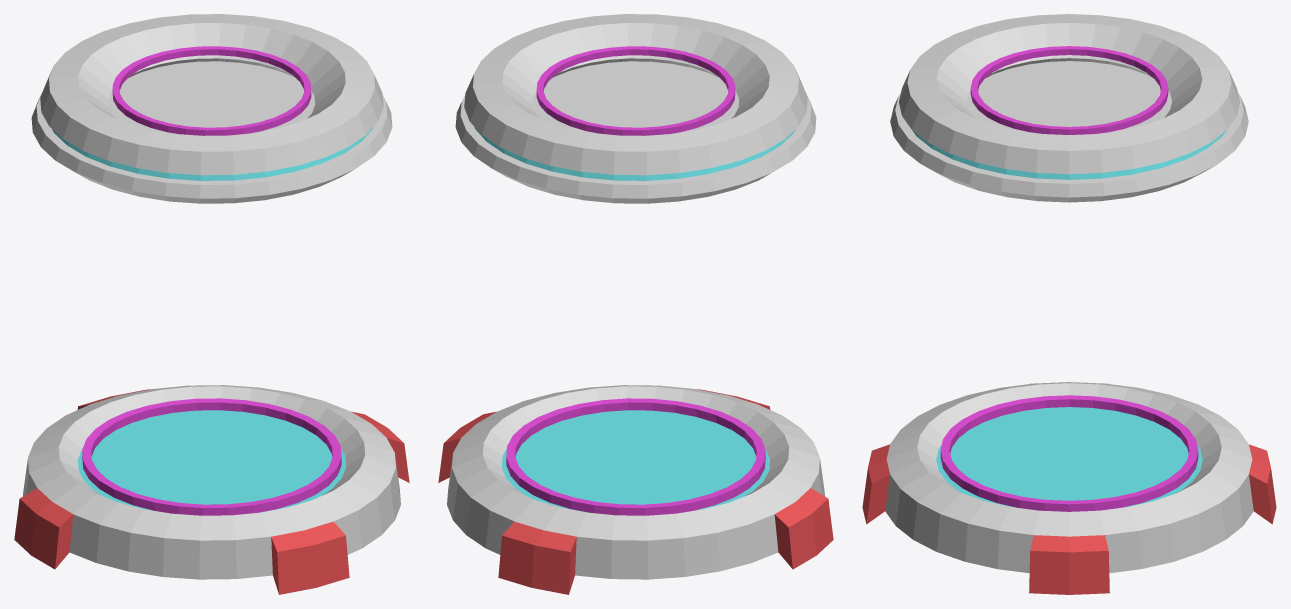
The model's file is Section_AS.fbx.
3 renders of one model, left to right at view 1: azimuth 30°, elevation 25°; view 2: azimuth 150°, elevation 25°; view 3: azimuth 270°, elevation 25°, orthographic.
Visible parts, largest first — view 1: Cylinder.001, Cylinder, Cylinder.004, Cylinder.003; view 2: Cylinder.001, Cylinder, Cylinder.004, Cylinder.003; view 3: Cylinder.001, Cylinder, Cylinder.004, Cylinder.003.
Part boxes in pixels (x1=…): Cylinder.001: x1=14, y1=385, x2=409, y2=594; Cylinder: x1=31, y1=14, x2=392, y2=203; Cylinder.004: x1=82, y1=398, x2=341, y2=515; Cylinder.003: x1=112, y1=46, x2=311, y2=135; Cylinder.001: x1=438, y1=385, x2=833, y2=594; Cylinder: x1=455, y1=14, x2=816, y2=203; Cylinder.004: x1=506, y1=398, x2=765, y2=515; Cylinder.003: x1=536, y1=46, x2=735, y2=135; Cylinder.001: x1=862, y1=382, x2=1276, y2=594; Cylinder: x1=890, y1=14, x2=1248, y2=202; Cylinder.004: x1=940, y1=395, x2=1198, y2=511; Cylinder.003: x1=970, y1=46, x2=1168, y2=134.
Size of the model in its own units: 819 by 819 by 935.
